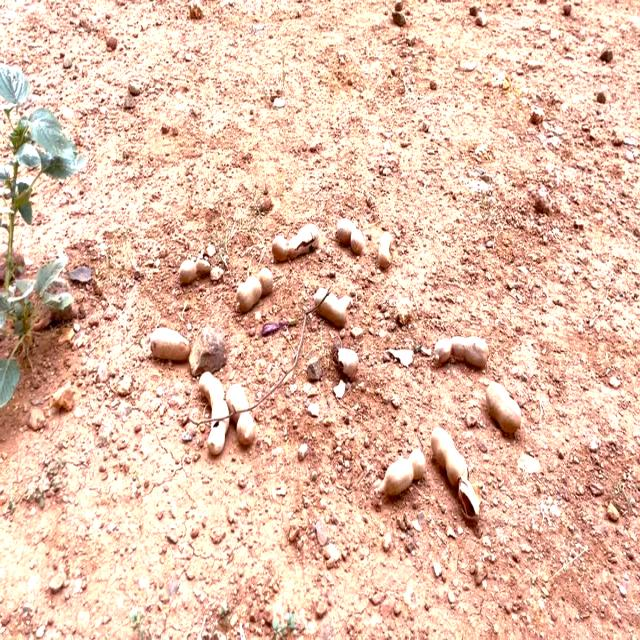tamarind: (429, 425, 483, 530), (370, 446, 429, 510), (196, 367, 230, 457), (432, 332, 491, 371), (486, 377, 522, 436), (233, 265, 275, 315), (230, 375, 256, 446), (312, 285, 352, 329), (148, 324, 194, 361), (270, 228, 321, 260), (332, 212, 367, 258), (177, 254, 215, 284), (378, 228, 394, 274)
